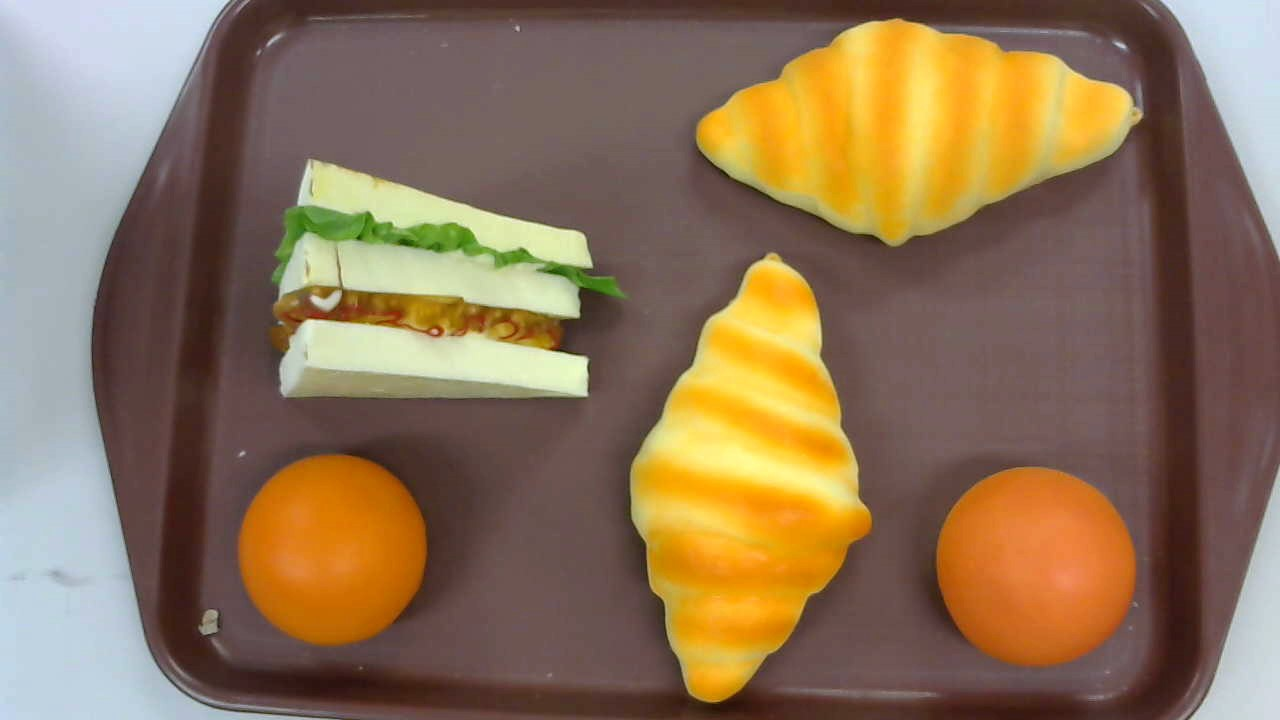bun: (935, 466, 1135, 666), (236, 455, 428, 644)
croissant: (629, 251, 871, 703), (695, 18, 1143, 248)
sandwich: (267, 155, 630, 402)
